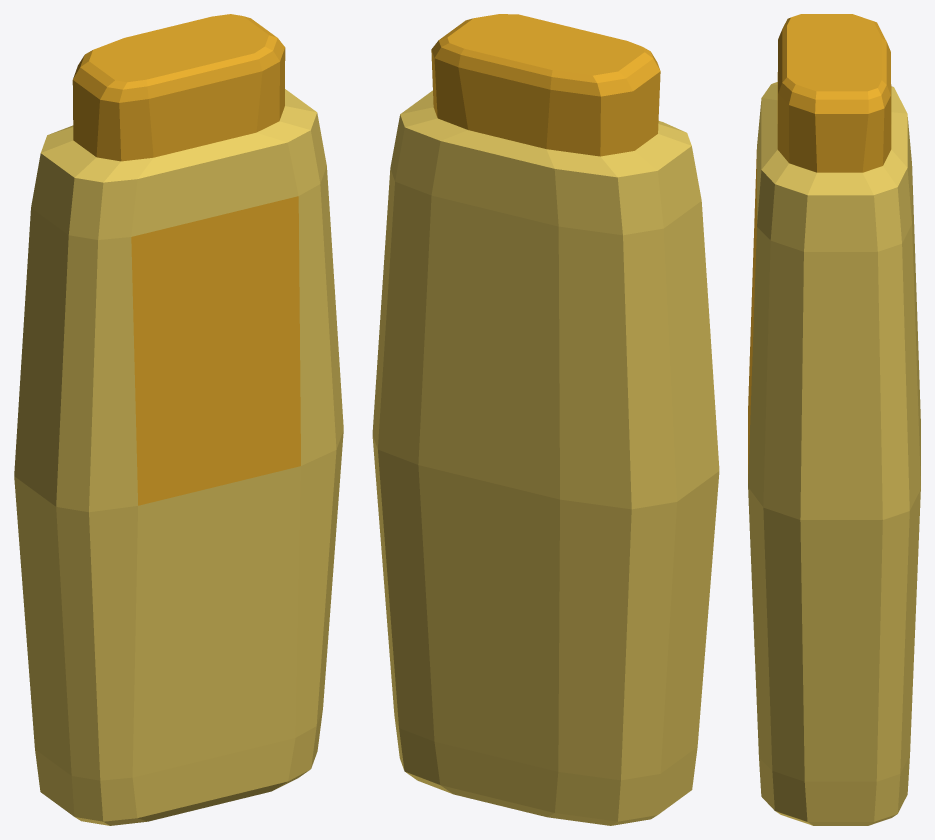
File: Ma_Shampoo_2.fbx
3 views of the same model, side by side, from view 1: azimuth 30°, elevation 25°; view 2: azimuth 150°, elevation 25°; view 3: azimuth 270°, elevation 25° (orthographic). The views are drawn at different scales.
Visible parts, largest first — view 1: Ma_Shampoo_2; view 2: Ma_Shampoo_2; view 3: Ma_Shampoo_2.
Part boxes in pixels (box(x1,y1,x2,y2)): Ma_Shampoo_2: box(14, 14, 343, 825); Ma_Shampoo_2: box(372, 14, 719, 825); Ma_Shampoo_2: box(748, 14, 920, 825).
Bounding box in the file's own units: 86.61 × 44.83 × 206.
